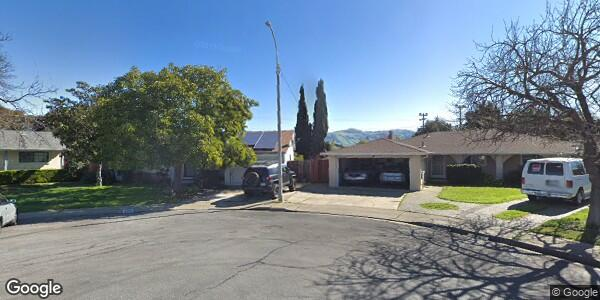Steel_Pole: (262, 16, 287, 202)
